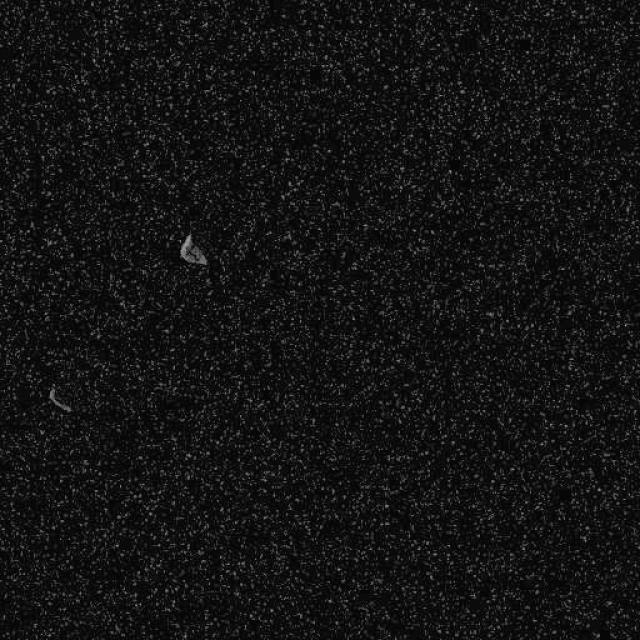D2: (178, 232, 208, 266), (46, 387, 72, 412)
